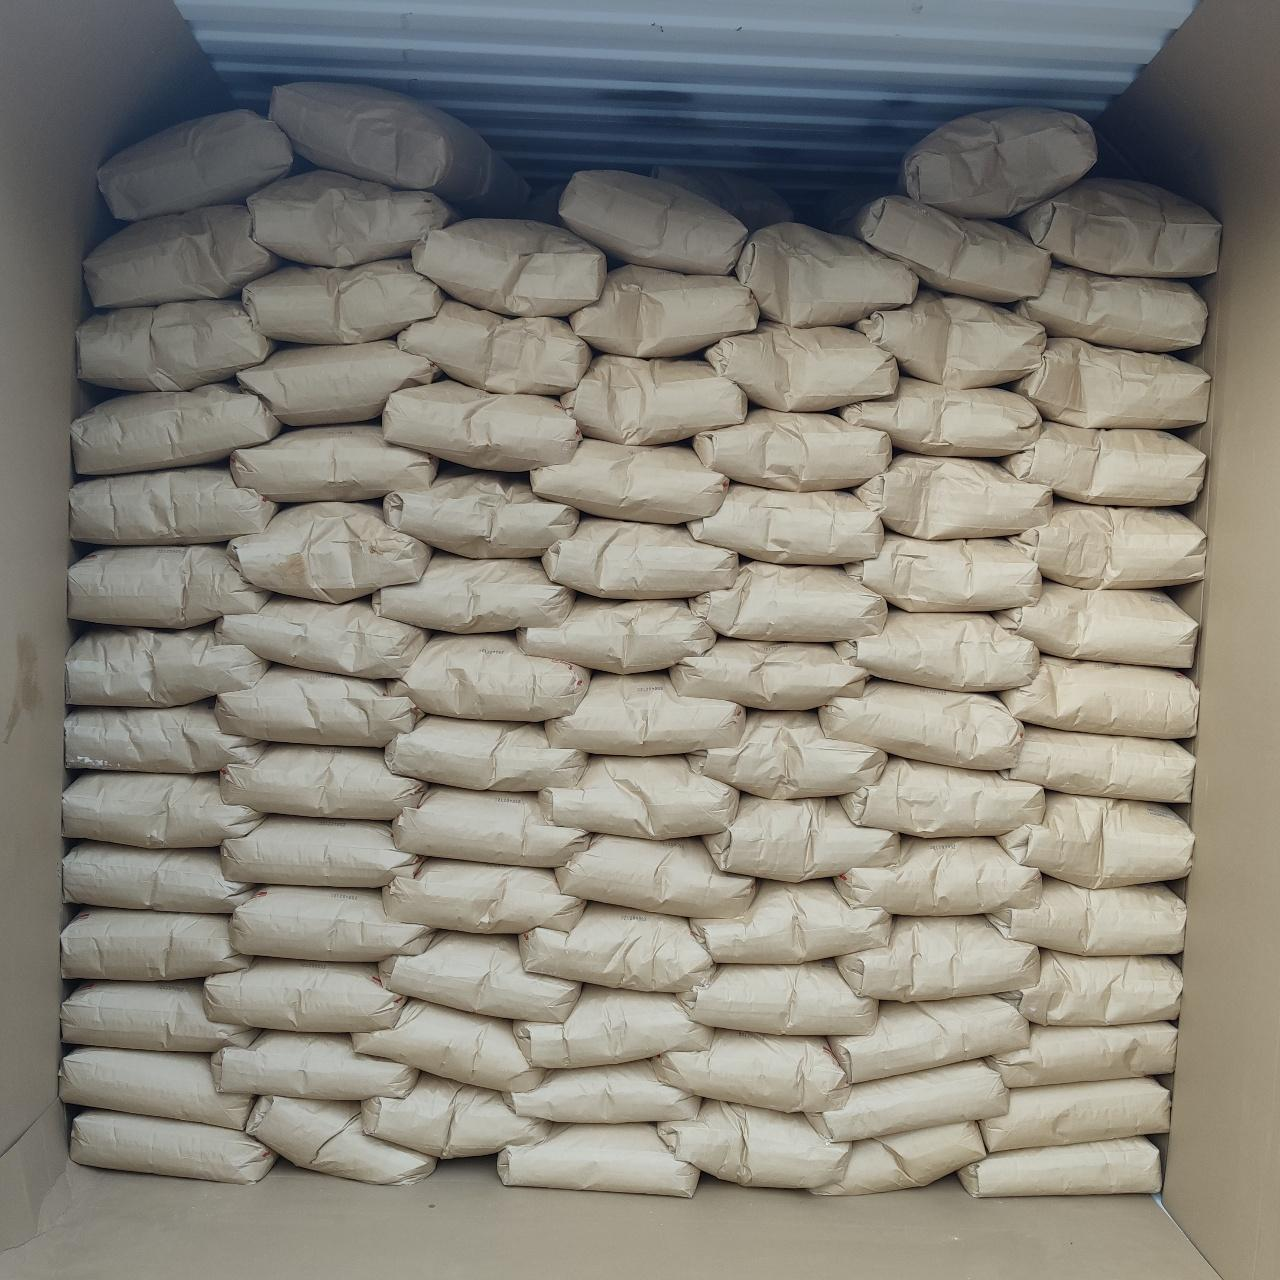sack: (270, 83, 529, 217), (826, 194, 1048, 300), (98, 110, 296, 220), (904, 108, 1094, 216), (1010, 178, 1218, 276), (86, 204, 280, 308), (230, 504, 430, 598), (250, 170, 454, 262), (414, 220, 606, 316), (736, 224, 916, 326), (560, 172, 744, 270), (72, 384, 278, 470), (856, 290, 1044, 384), (78, 298, 270, 390), (384, 380, 580, 470), (400, 300, 590, 392), (1000, 794, 1190, 886), (380, 932, 578, 1020), (1014, 338, 1206, 428), (384, 466, 576, 556), (820, 680, 1020, 766), (572, 266, 758, 356), (690, 712, 884, 798), (218, 596, 426, 676), (998, 582, 1196, 666), (244, 258, 442, 342), (392, 634, 588, 718), (1010, 502, 1204, 586), (1012, 266, 1206, 350), (540, 756, 738, 838), (68, 546, 266, 628), (240, 340, 438, 422), (840, 916, 1038, 998), (658, 1100, 846, 1186), (522, 904, 710, 990), (836, 610, 1038, 690), (830, 998, 1026, 1080), (1004, 422, 1204, 502), (356, 1000, 542, 1086), (248, 1096, 434, 1182), (232, 424, 436, 502), (548, 672, 742, 754), (532, 440, 726, 522), (854, 456, 1052, 536), (692, 880, 890, 960), (556, 836, 754, 916), (562, 356, 746, 442), (706, 322, 894, 406), (362, 1074, 550, 1158), (218, 666, 420, 744), (840, 758, 1042, 836), (704, 796, 896, 878), (514, 986, 710, 1066), (394, 786, 588, 866), (72, 466, 276, 542), (840, 376, 1038, 454), (808, 1062, 1006, 1140), (690, 484, 882, 564), (544, 518, 736, 598), (1000, 656, 1196, 734), (68, 626, 268, 702), (838, 838, 1038, 914), (656, 1030, 846, 1110), (692, 410, 890, 486), (374, 554, 572, 630), (846, 532, 1038, 610), (62, 1048, 252, 1126), (988, 878, 1182, 954), (692, 562, 886, 638), (222, 746, 426, 818), (386, 716, 584, 790), (516, 596, 714, 670), (72, 1110, 274, 1182), (64, 772, 260, 846), (498, 1124, 698, 1196), (206, 958, 404, 1030), (384, 860, 582, 932), (678, 960, 876, 1032), (232, 888, 432, 958), (222, 816, 418, 886), (66, 702, 262, 772), (62, 982, 254, 1052), (1006, 726, 1192, 798), (980, 1078, 1166, 1150), (212, 1032, 414, 1098), (672, 640, 866, 708), (62, 908, 248, 978), (64, 842, 254, 910), (1002, 950, 1180, 1022), (812, 1124, 982, 1194), (504, 1060, 698, 1120), (988, 1024, 1174, 1086), (958, 1138, 1158, 1194)
